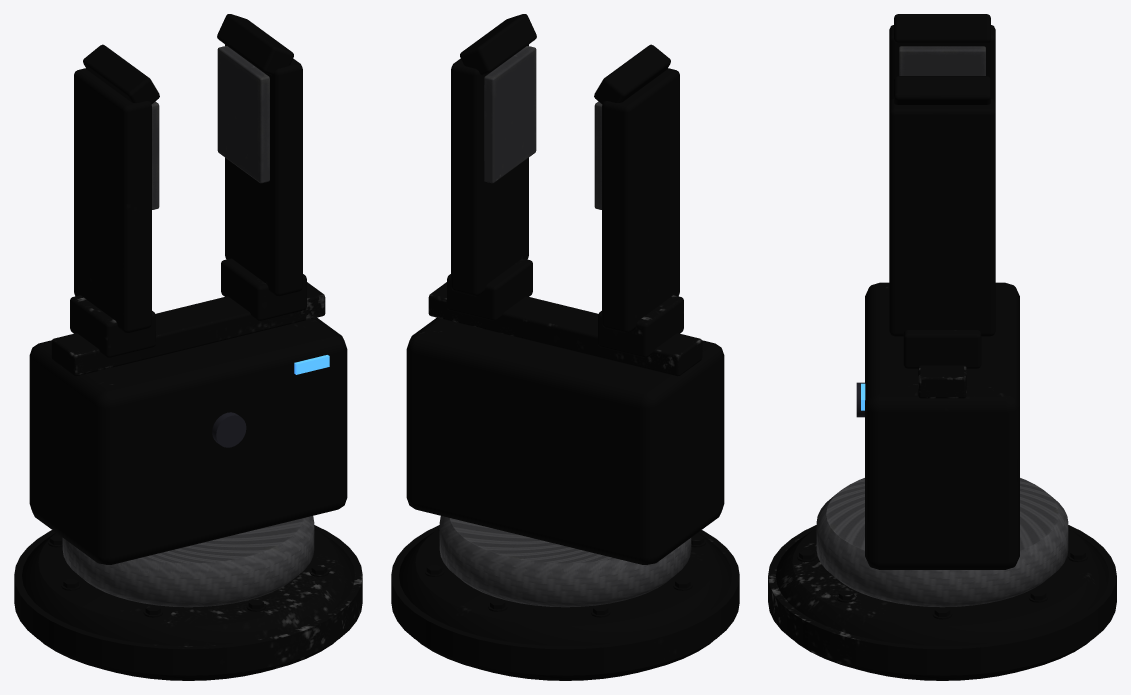
The picture shows the model from 3 angles, left to right: view 1: azimuth 30°, elevation 25°; view 2: azimuth 150°, elevation 25°; view 3: azimuth 270°, elevation 25°; orthographic projection.
Parts seen in each view (by area): view 1: TL01_Static_Titanium, TL01_Static_AnodizedBlack, TL01_Static_CarbonFiber, TL01_Static_RailTrack, TL01_Static_RubberSeal, TL01_Static_LensOptic; view 2: TL01_Static_Titanium, TL01_Static_AnodizedBlack, TL01_Static_CarbonFiber, TL01_Static_RailTrack, TL01_Static_RubberSeal; view 3: TL01_Static_Titanium, TL01_Static_AnodizedBlack, TL01_Static_CarbonFiber, TL01_Static_RubberSeal, TL01_Static_RailTrack.
Boxes of the visible parts, box(x1,y1,x2,y2) form: TL01_Static_Titanium: box(14, 14, 362, 680); TL01_Static_AnodizedBlack: box(29, 317, 347, 564); TL01_Static_CarbonFiber: box(62, 516, 314, 607); TL01_Static_RailTrack: box(51, 282, 325, 376); TL01_Static_RubberSeal: box(151, 46, 269, 209); TL01_Static_LensOptic: box(212, 412, 246, 447); TL01_Static_Titanium: box(391, 14, 739, 680); TL01_Static_AnodizedBlack: box(406, 317, 724, 564); TL01_Static_CarbonFiber: box(439, 516, 691, 607); TL01_Static_RailTrack: box(428, 282, 702, 376); TL01_Static_RubberSeal: box(484, 46, 602, 209); TL01_Static_Titanium: box(768, 14, 1116, 680); TL01_Static_AnodizedBlack: box(865, 282, 1019, 569); TL01_Static_CarbonFiber: box(816, 478, 1068, 607); TL01_Static_RubberSeal: box(899, 46, 985, 75); TL01_Static_RailTrack: box(918, 365, 966, 398).
Size of the model in its own units: 0.36 by 0.6538 by 0.36.
7 materials, 5 textured.
